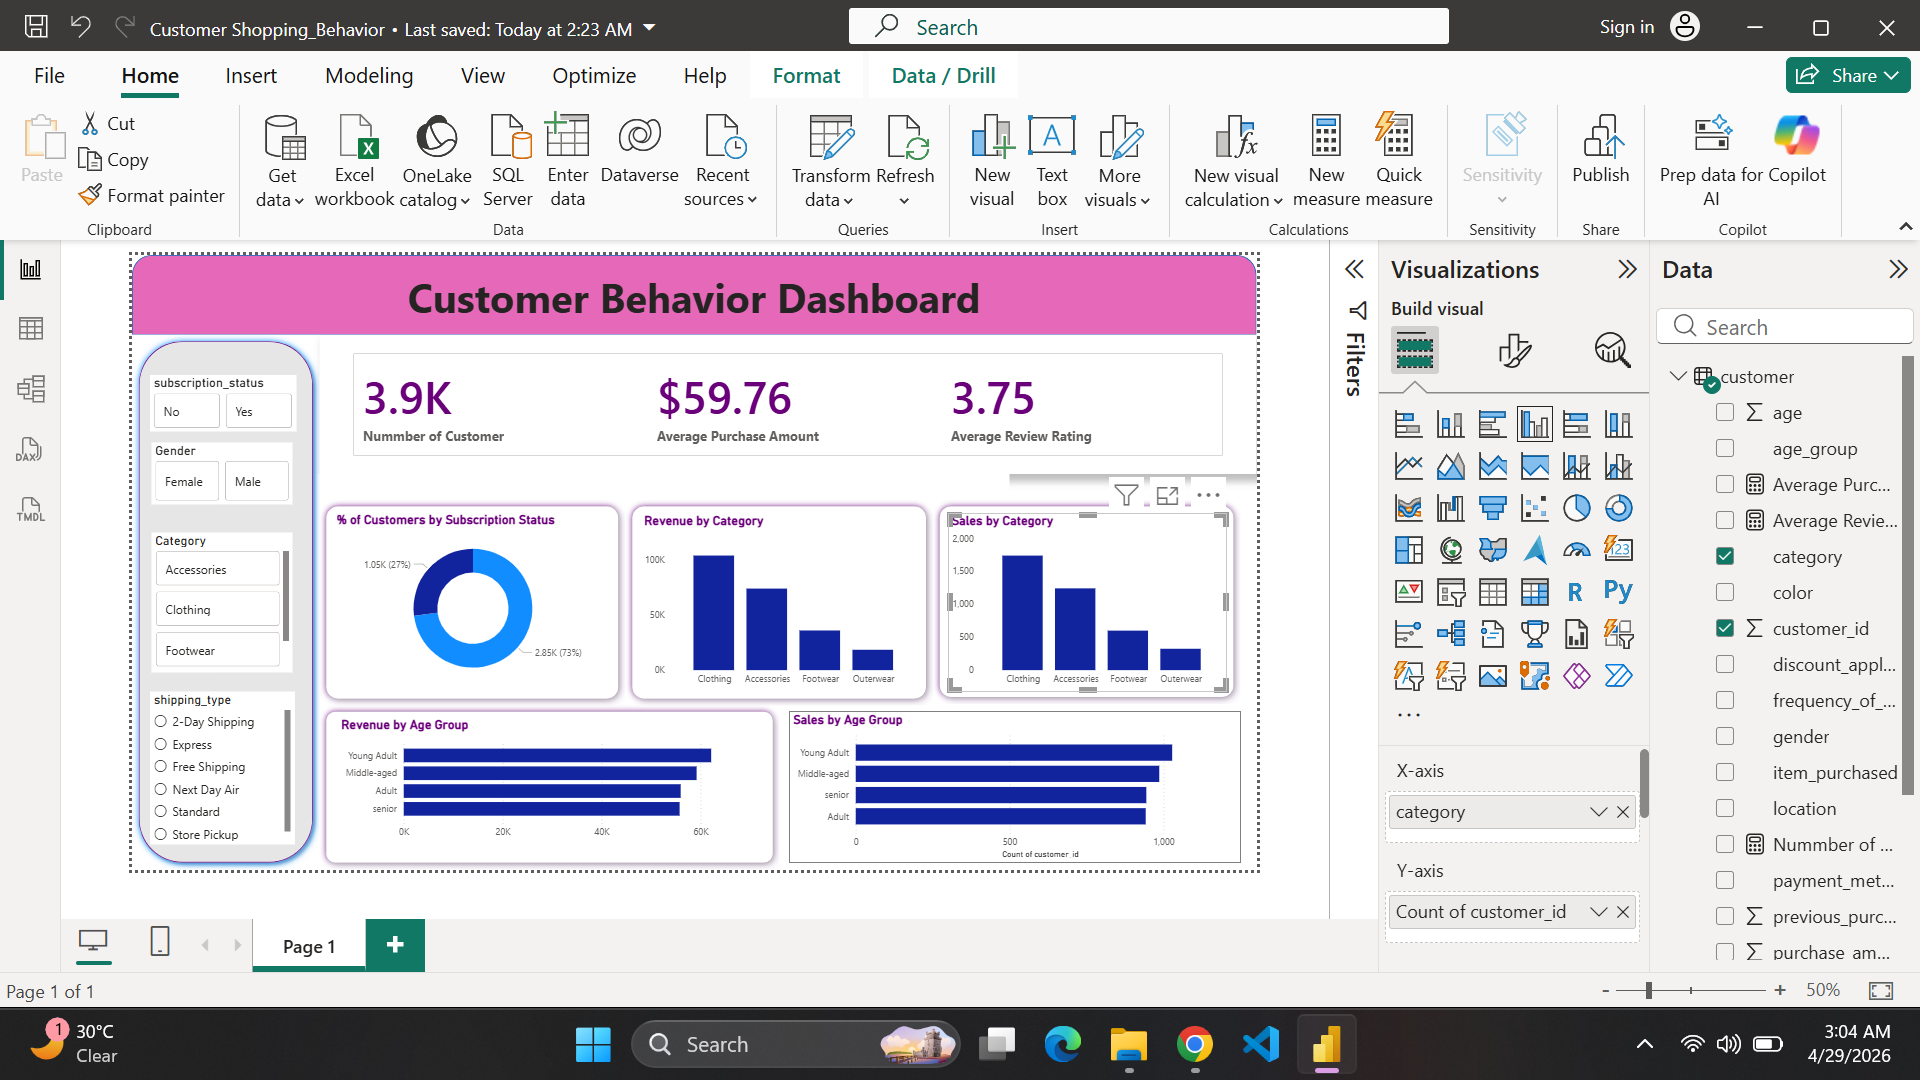

Layout of this report page (visuals, bound fields, positions):
{"tool":"powerbi","page":{"name":"Page 1","canvas":[1500,820],"ordinal":0},"visuals":[{"type":"cardVisual","fields":{"Data":["customer.Nummber of Customer","customer.Average Purchase Amount","customer.Average Review Rating"]},"box":[250.2,106.3,1249,186],"z":0},{"type":"shape","box":[0,0,1499.3,106.3],"z":1000},{"type":"textbox","box":[111,292.5,1058,187],"z":2000},{"type":"textbox","box":[0,13.3,1499.3,93],"z":3000},{"type":"shape","box":[250.2,325.5,407.5,274.6],"z":4000},{"type":"shape","box":[657.7,325.5,409.7,274.6],"z":5000},{"type":"shape","box":[1067.4,325.5,409.7,272.4],"z":6000},{"type":"clusteredColumnChart","title":"Revenue by Category","fields":{"Y":["Sum(customer.purchase_amount)"],"Category":["customer.category"]},"box":[677.7,343.3,372.1,239.2],"z":7000},{"type":"clusteredColumnChart","title":"Sales by Category","fields":{"Category":["customer.category"],"Y":["CountNonNull(customer.customer_id)"]},"box":[1087.4,343.3,372.1,239.2],"z":8000},{"type":"shape","box":[0,106.3,250.2,713.1],"z":9000},{"type":"advancedSlicerVisual","fields":{"Values":["customer.subscription_status"]},"box":[24,160.4,195.5,75.6],"z":10000},{"type":"advancedSlicerVisual","title":"Gender","fields":{"Values":["customer.gender"]},"box":[25.8,250.8,188.1,83],"z":11000},{"type":"advancedSlicerVisual","title":"Category","fields":{"Values":["customer.category"]},"box":[26.6,369.8,188.2,186],"z":12000},{"type":"listSlicer","fields":{"Values":["customer.shipping_type"]},"box":[24.4,582.4,192.7,203.7],"z":13000},{"type":"clusteredBarChart","title":"Sales by Age Group","fields":{"Category":["customer.age_group"],"Y":["CountNonNull(customer.customer_id)"]},"box":[875,607.5,602.5,202.5],"z":14000},{"type":"shape","box":[250.2,600.2,613.4,219.2],"z":15000},{"type":"clusteredBarChart","title":"Revenue by Age Group","fields":{"Category":["customer.age_group"],"Y":["Sum(customer.purchase_amount)"]},"box":[274.6,615.7,564.7,170.5],"z":17000},{"type":"donutChart","title":"% of Customers by Subscription Status","fields":{"Category":["customer.subscription_status"],"Y":["CountNonNull(customer.customer_id)"]},"box":[267.4,341.2,372.5,237.9],"z":18000}]}

Visuals, with their boxes on the page's 1500x820 design canvas (x1, y1, x2, y2). These are canvas units, not pixel positions in the 1920x1080 screenshot, which may show the page scaled, cropped or inside an application window:
cardVisual - customer.Nummber of Customer x customer.Average Purchase Amount: locate(250, 106, 1499, 292)
shape: locate(0, 0, 1499, 106)
textbox: locate(111, 292, 1169, 480)
textbox: locate(0, 13, 1499, 106)
shape: locate(250, 326, 658, 600)
shape: locate(658, 326, 1067, 600)
shape: locate(1067, 326, 1477, 598)
"Revenue by Category" clusteredColumnChart: locate(678, 343, 1050, 582)
"Sales by Category" clusteredColumnChart: locate(1087, 343, 1460, 582)
shape: locate(0, 106, 250, 819)
advancedSlicerVisual - customer.subscription_status: locate(24, 160, 220, 236)
"Gender" advancedSlicerVisual: locate(26, 251, 214, 334)
"Category" advancedSlicerVisual: locate(27, 370, 215, 556)
listSlicer - customer.shipping_type: locate(24, 582, 217, 786)
"Sales by Age Group" clusteredBarChart: locate(875, 608, 1478, 810)
shape: locate(250, 600, 864, 819)
"Revenue by Age Group" clusteredBarChart: locate(275, 616, 839, 786)
"% of Customers by Subscription Status" donutChart: locate(267, 341, 640, 579)
